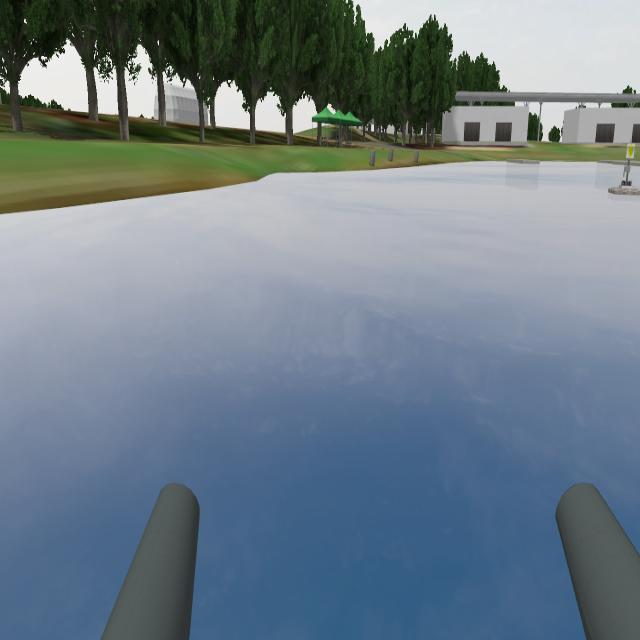yellow_pole: (622, 140, 638, 168)
